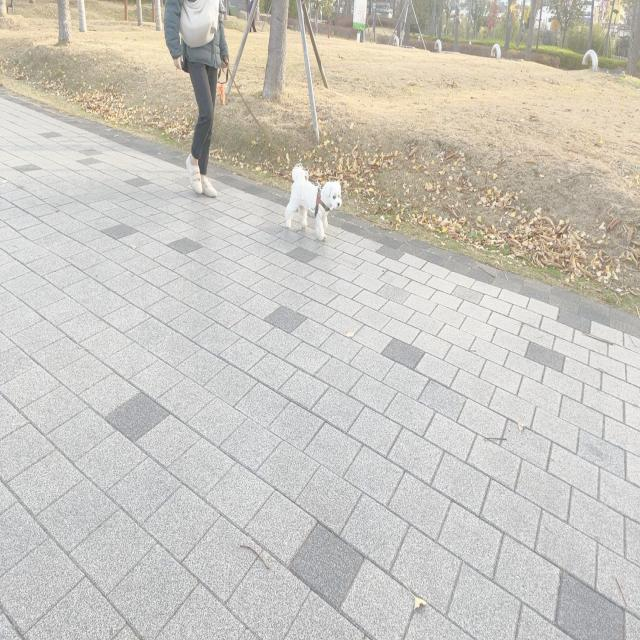Leashed_Dog: (209, 36, 342, 242)
